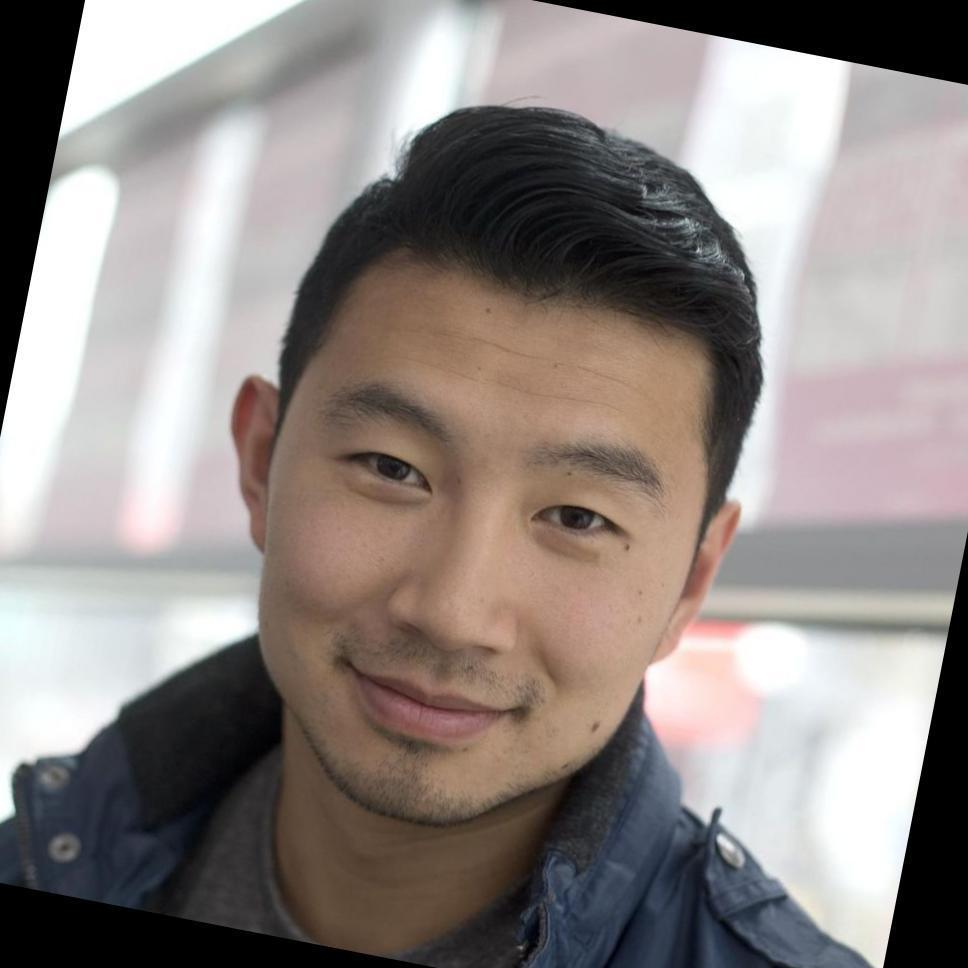Sober: (313, 288, 669, 804)
